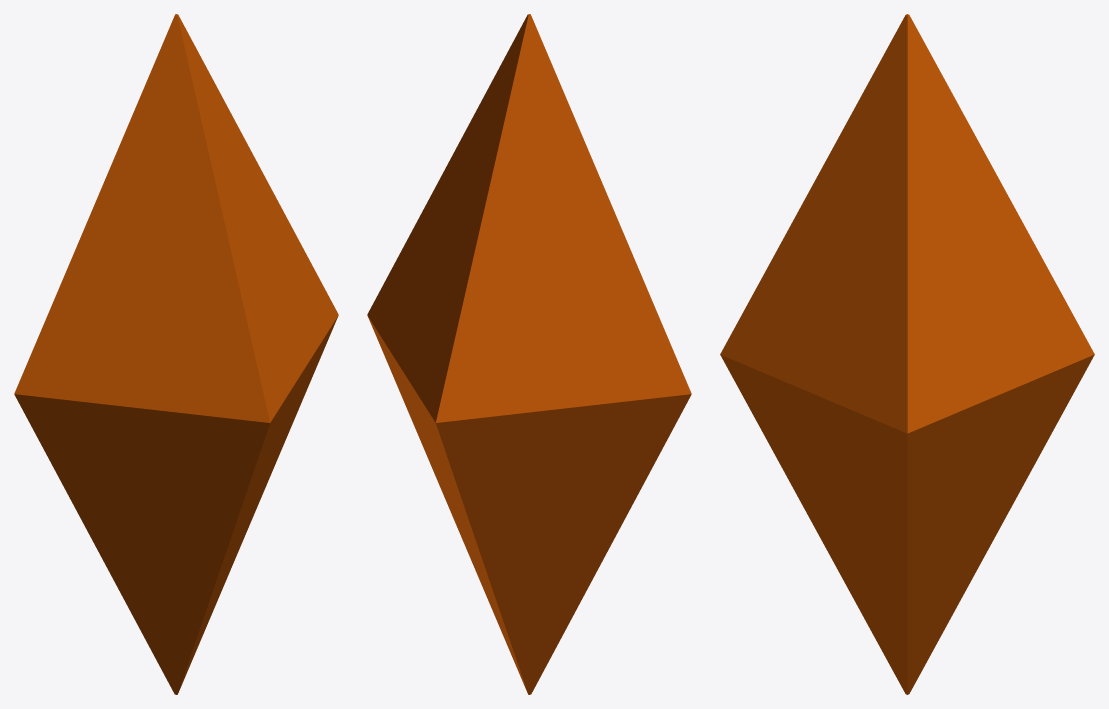
File: point.glb
The picture shows the model from 3 angles, left to right: view 1: azimuth 30°, elevation 25°; view 2: azimuth 150°, elevation 25°; view 3: azimuth 270°, elevation 25°; orthographic projection.
Visible parts, largest first — view 1: Cylinder002; view 2: Cylinder002; view 3: Cylinder002.
Part boxes in pixels (x1=…): Cylinder002: x1=14, y1=14, x2=338, y2=694; Cylinder002: x1=367, y1=14, x2=691, y2=694; Cylinder002: x1=720, y1=14, x2=1094, y2=694.
Size of the model in its own units: 0.254 by 0.508 by 0.254.
